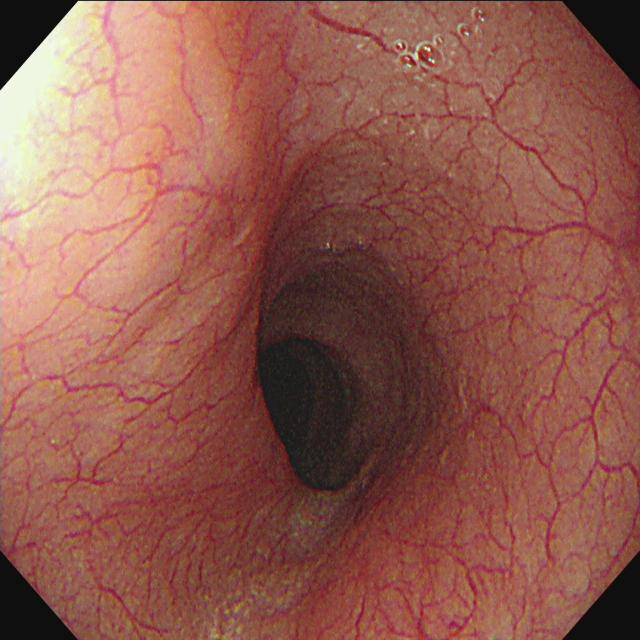E: (259, 357, 311, 446)
T: (395, 7, 485, 75)
